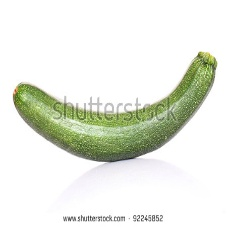cucumber: (12, 51, 216, 165)
